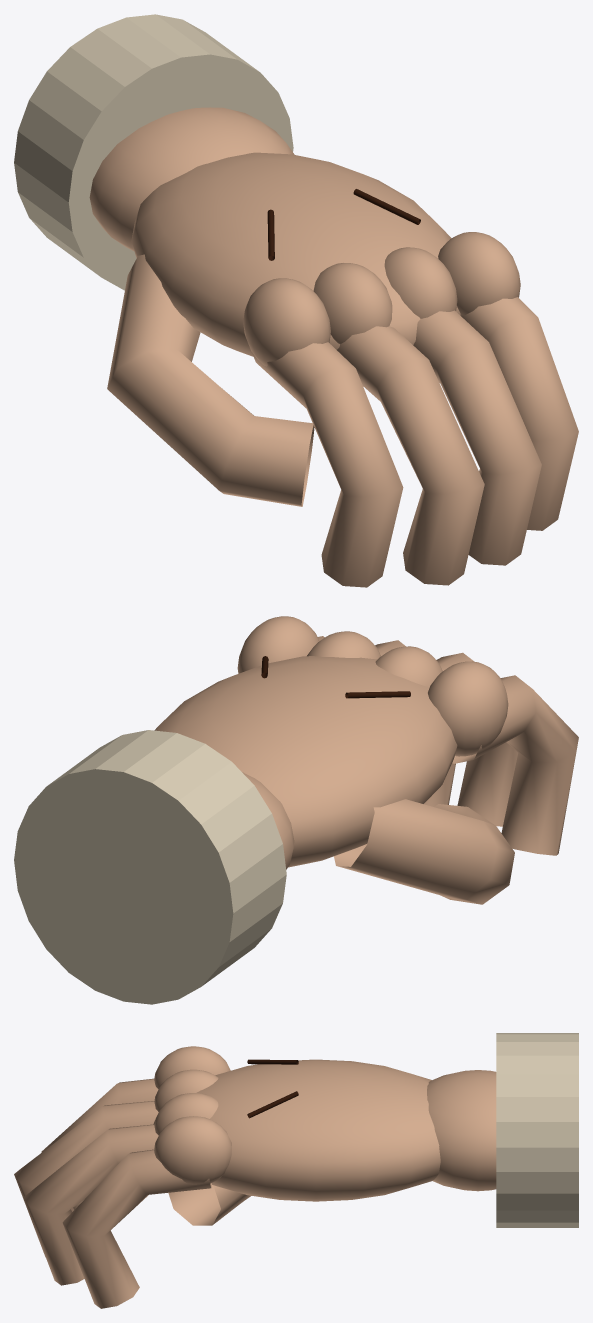
The model's file is HandR.fbx.
3 views of the same model, one above another, from view 1: azimuth 30°, elevation 25°; view 2: azimuth 150°, elevation 25°; view 3: azimuth 270°, elevation 25° (orthographic). The views are drawn at different scales.
Visible parts, largest first — view 1: HandRMesh; view 2: HandRMesh; view 3: HandRMesh.
Part boxes in pixels (x1,y1,x2,y2): HandRMesh: (14, 14, 578, 587); HandRMesh: (14, 616, 578, 1004); HandRMesh: (14, 1033, 578, 1308).
Bounding box in the file's own units: 9.33 × 8.2 × 18.47.
Materials: 3 (1 with a texture image).
